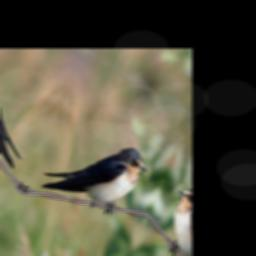Swallow: (36, 107, 154, 239)
